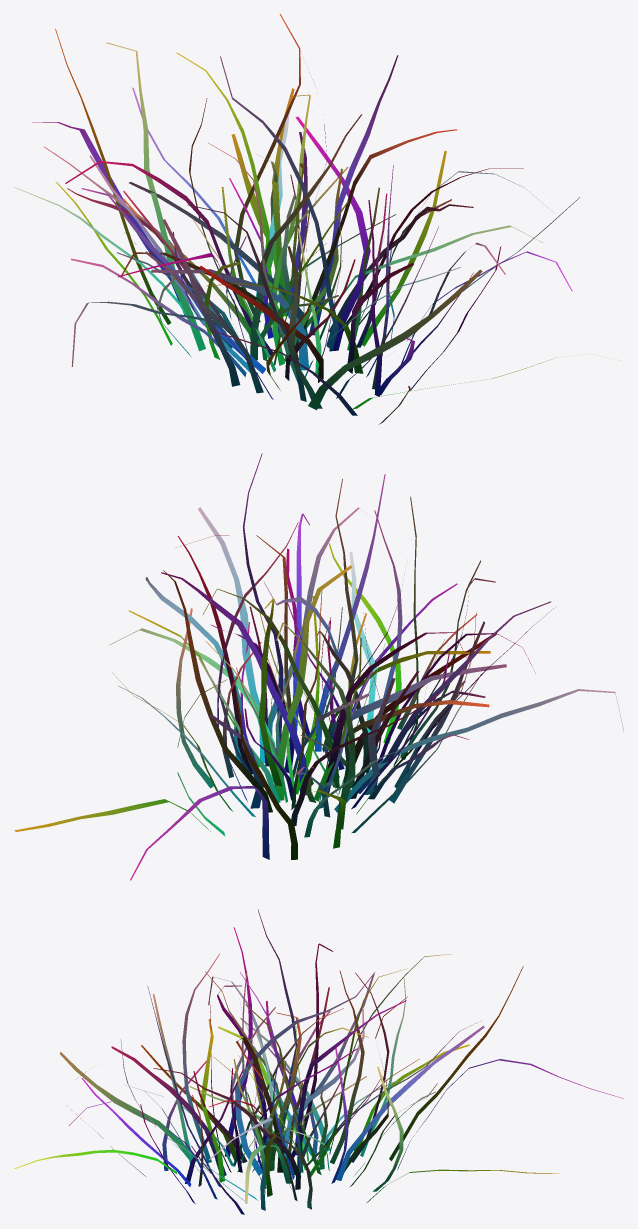
Rendered from Wild_Grass_vlkhcbxia_Mid_vlkhcbxia_VarH_LOD0.fbx.
3 renders of one model, top to bottom at view 1: azimuth 30°, elevation 25°; view 2: azimuth 150°, elevation 25°; view 3: azimuth 270°, elevation 25°, orthographic. The views are drawn at different scales.
Visible parts, largest first — view 1: _h53h_VarH_LOD1; view 2: _h53h_VarH_LOD1; view 3: _h53h_VarH_LOD1.
Part boxes in pixels (<box>): _h53h_VarH_LOD1: <box>14,14,621,424</box>; _h53h_VarH_LOD1: <box>14,453,623,880</box>; _h53h_VarH_LOD1: <box>14,909,623,1214</box>.
Size of the model in its own units: 19.05 by 11.53 by 26.34.
